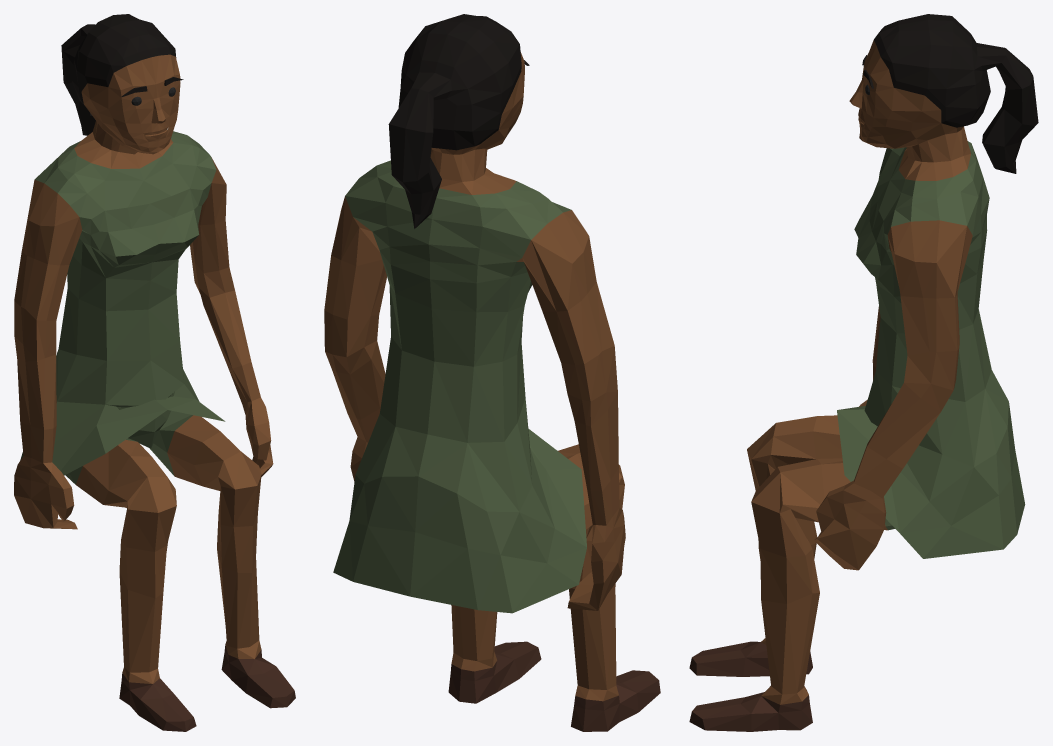
File: cg_dress_2.glb
3 views of the same model, side by side, from view 1: azimuth 30°, elevation 25°; view 2: azimuth 150°, elevation 25°; view 3: azimuth 270°, elevation 25° (orthographic). The views are drawn at different scales.
Bounding box in the file's own units: 1.48 × 3.85 × 1.81.
